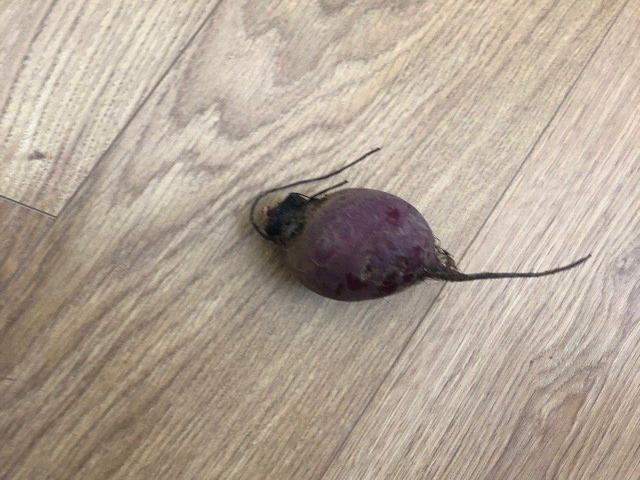beet: (250, 148, 592, 302)
